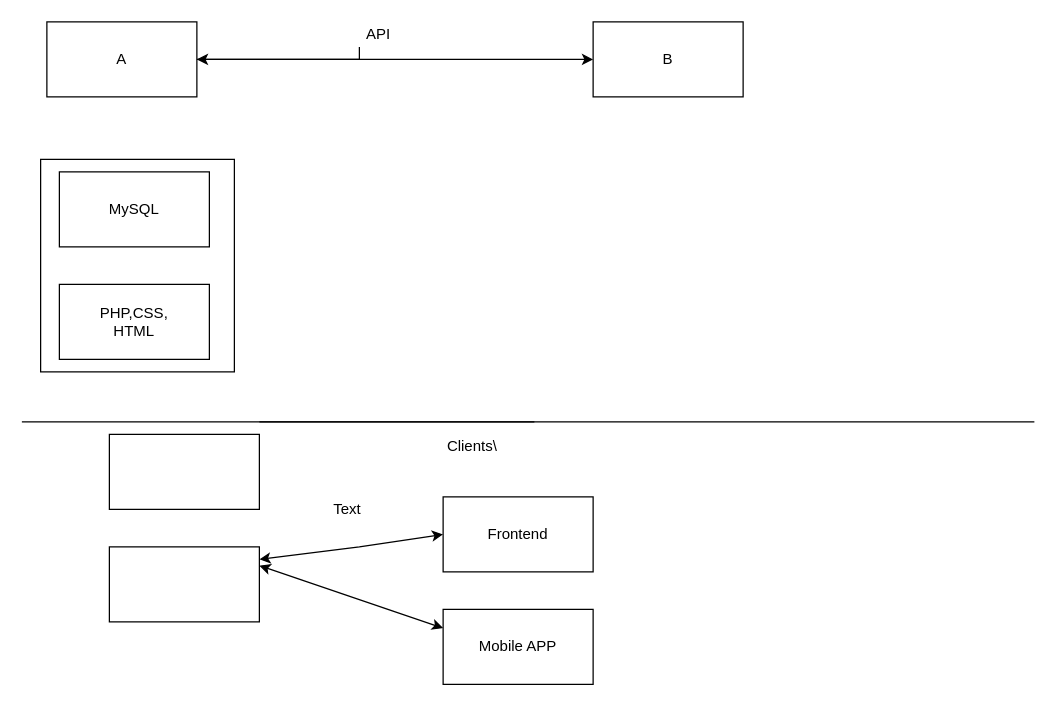
This 1058x706 diagram has some shape labels left out. The shapes that lost their labels are listed below. From the top down, each one's centre as x and y in pixels, then its label:
At [183,471]: "Database".
At [183,584]: "Backend".
